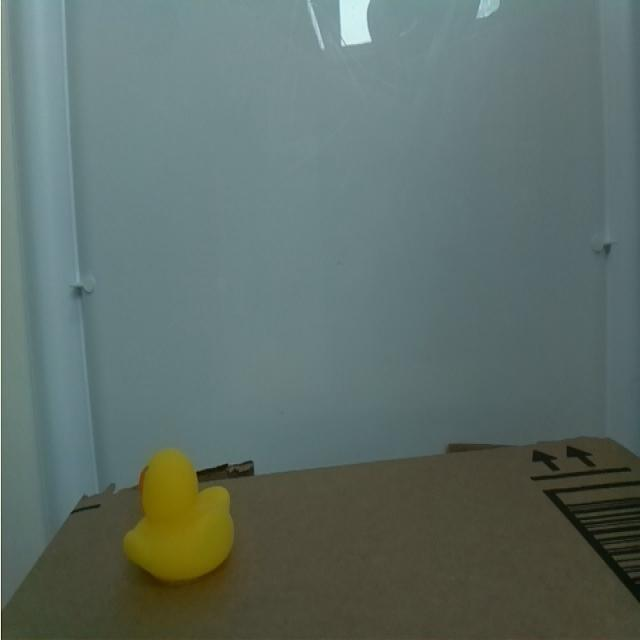duck_regular: (110, 438, 250, 586)
